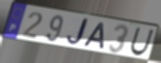2: (21, 12, 43, 41)
3: (107, 23, 131, 56)
9: (46, 15, 64, 43)
A: (82, 21, 106, 51)
J: (64, 17, 90, 48)
U: (129, 27, 155, 57)
